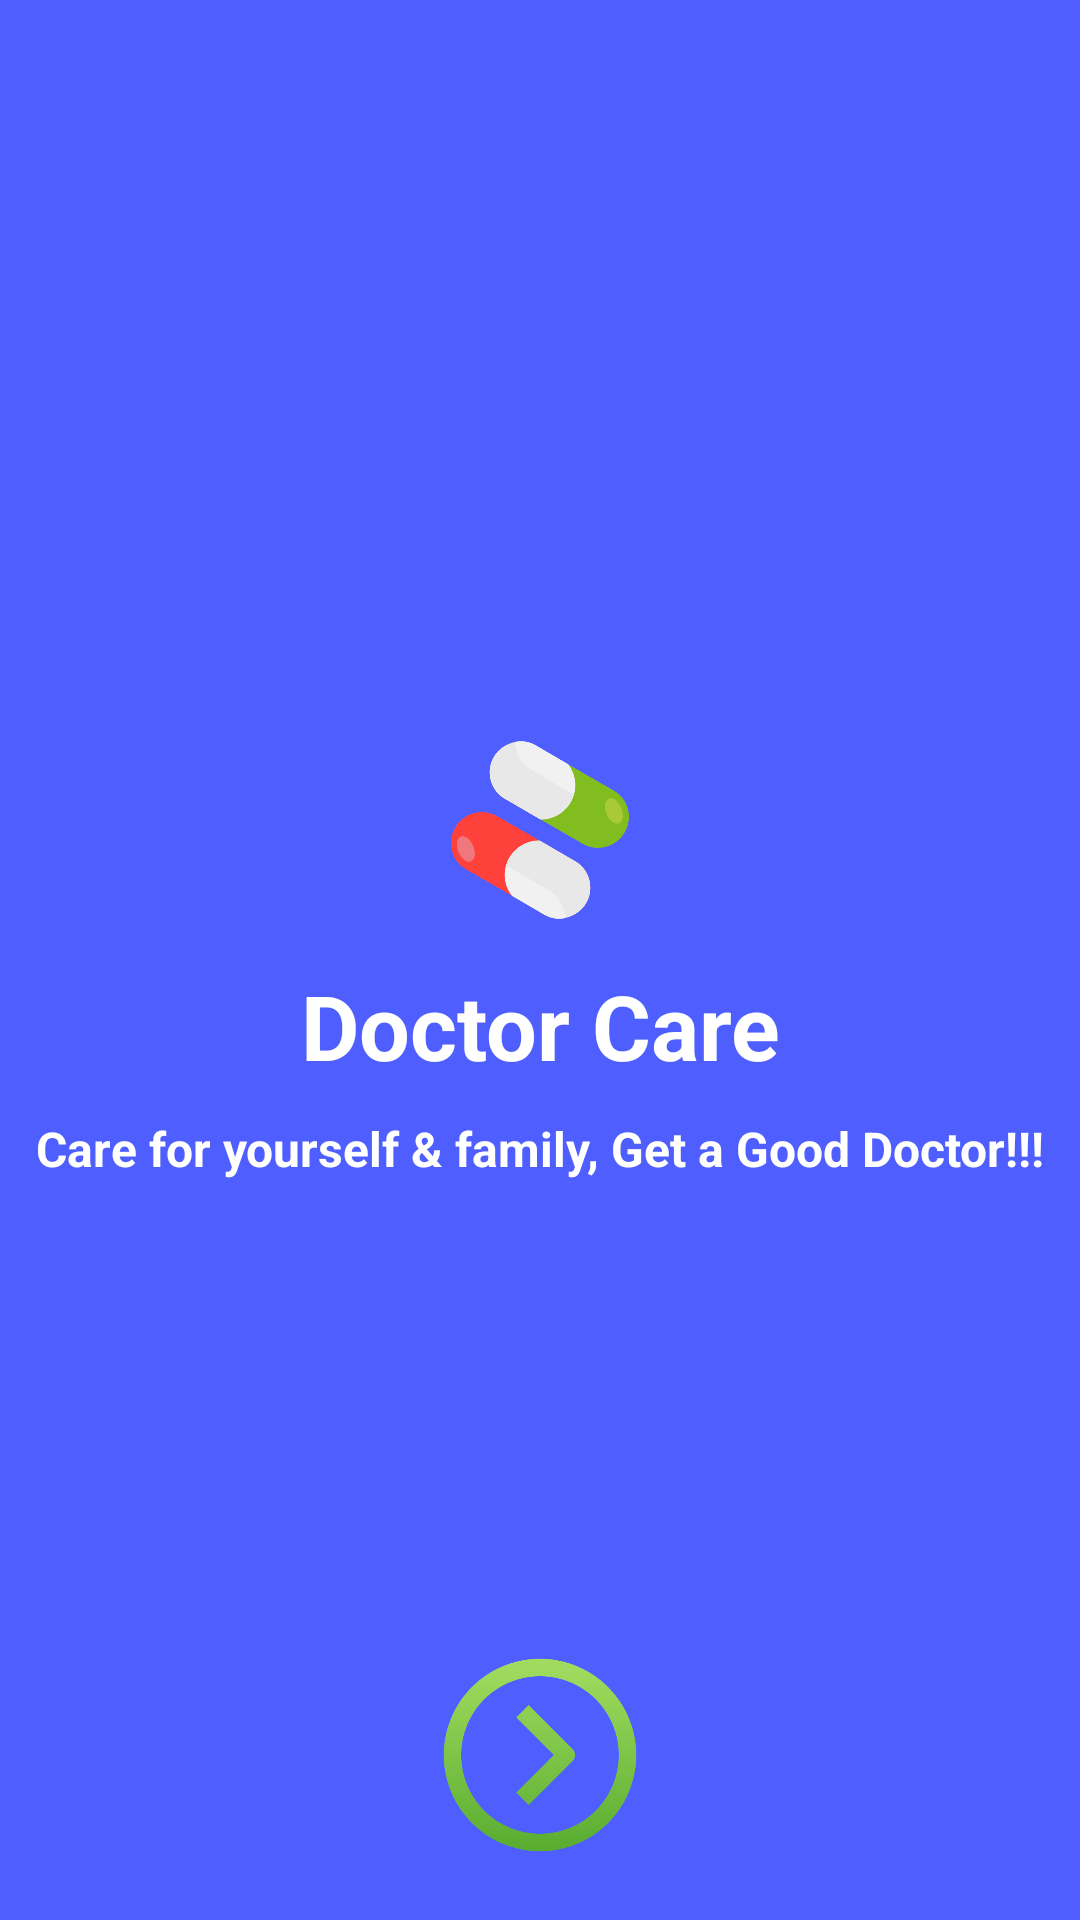

Icons on this 1080×1920 Android screen, each with the point to tap as point (x, y):
right: point (540, 1755)
